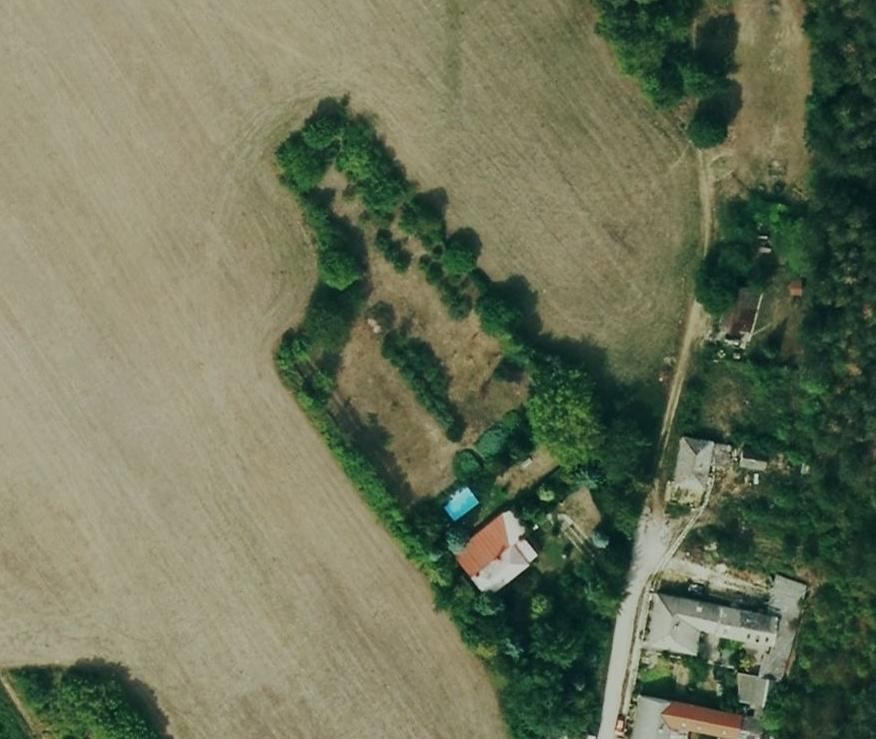field: (0, 2, 700, 737)
forest: (275, 140, 655, 737), (686, 0, 876, 737), (592, 0, 741, 148), (0, 660, 168, 739)
